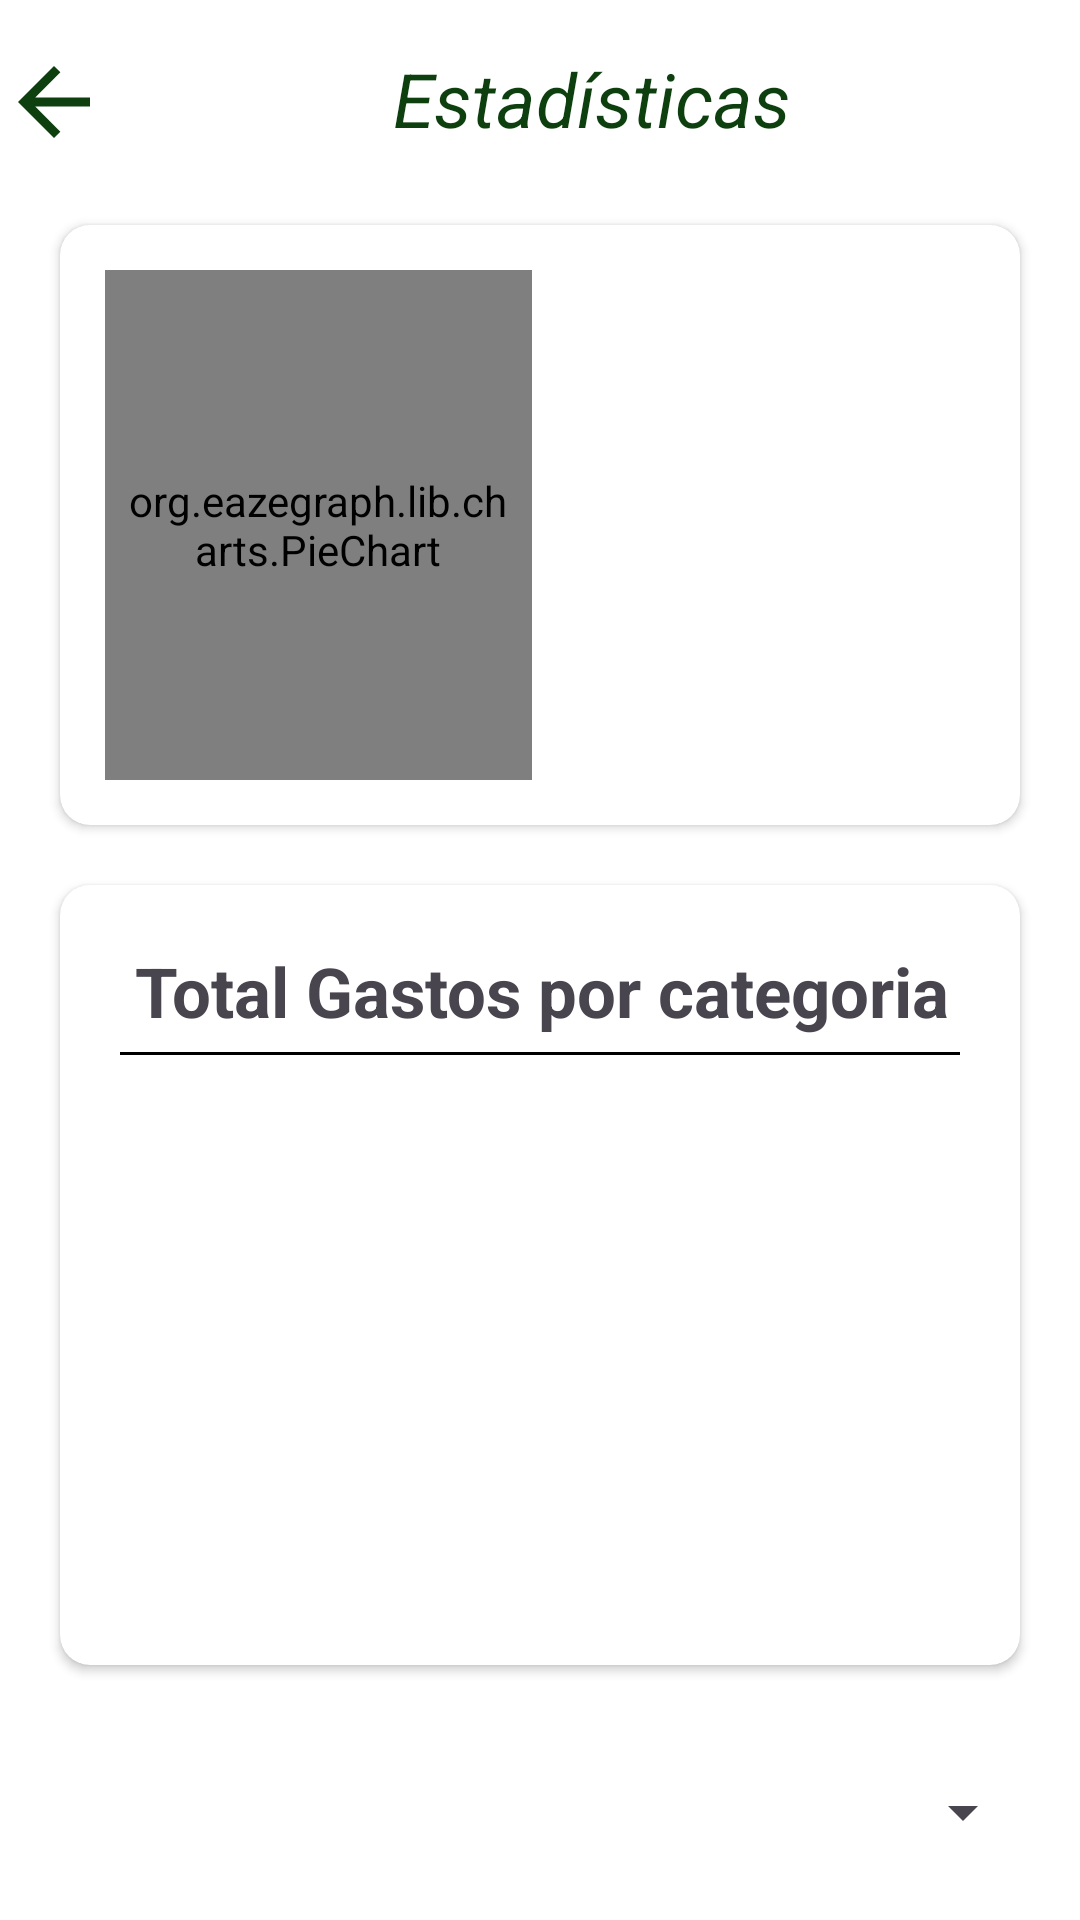

Where icons sit on this 1080×1920 app screen, as (x1, y1, x2, y2):
arrow back: (18, 66, 90, 138)
